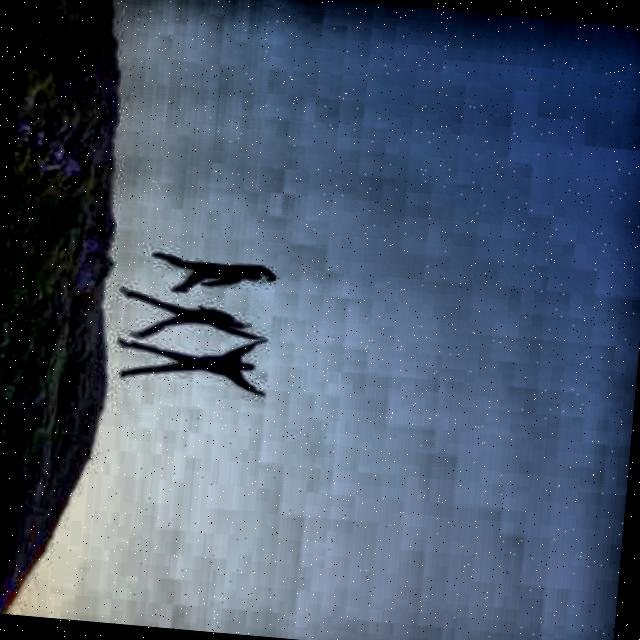happy: (235, 265, 278, 291), (230, 357, 266, 376), (218, 318, 259, 334)
